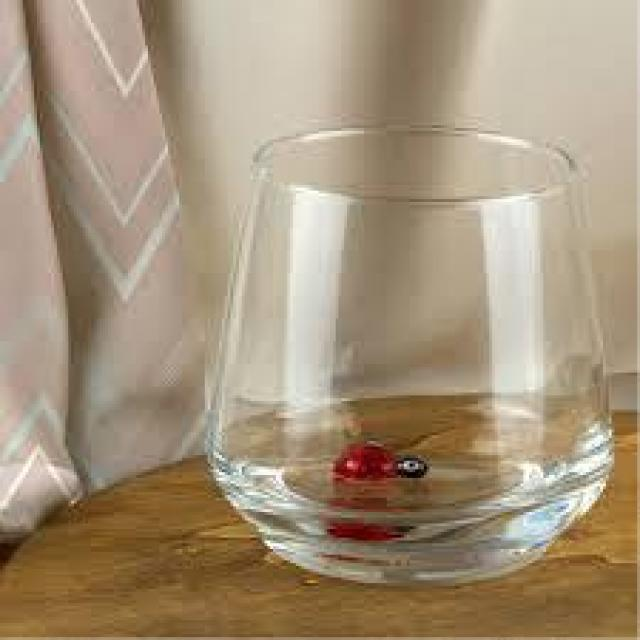glass: (205, 125, 618, 583)
